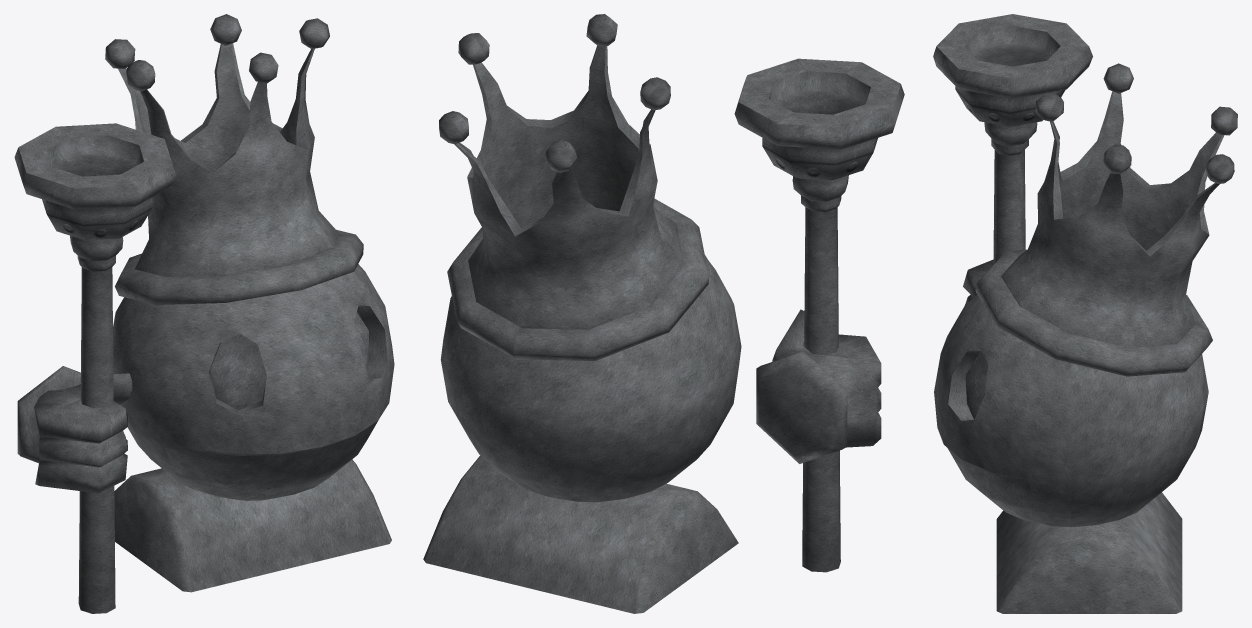
The model's file is Statue_Big_King.FBX.
3 renders of one model, left to right at view 1: azimuth 30°, elevation 25°; view 2: azimuth 150°, elevation 25°; view 3: azimuth 270°, elevation 25°, orthographic. The views are drawn at different scales.
Parts seen in each view (by area): view 1: Statue_Big_King; view 2: Statue_Big_King; view 3: Statue_Big_King.
Boxes of the visible parts, left/top/right/bottom form: Statue_Big_King: left=14, top=14, right=394, bottom=613; Statue_Big_King: left=423, top=14, right=904, bottom=613; Statue_Big_King: left=933, top=14, right=1237, bottom=613.
Bounding box in the file's own units: 6871 × 8439 × 4944.
